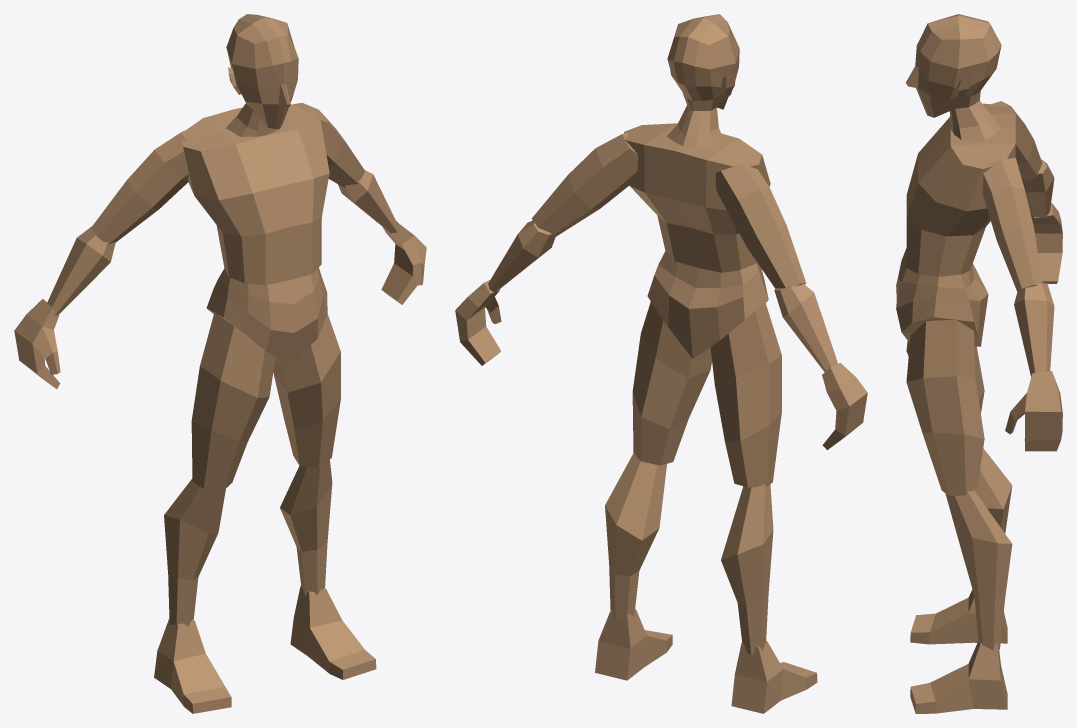
Rendered from HumanChar.glb.
3 renders of one model, left to right at view 1: azimuth 30°, elevation 25°; view 2: azimuth 150°, elevation 25°; view 3: azimuth 270°, elevation 25°, orthographic.
Visible parts, largest first — view 1: Upper torso, Upper leg, Lower leg, Foot, Lower torso, Head, Upper arm, Hand, Lower arm; view 2: Upper leg, Lower leg, Upper torso, Upper arm, Lower torso, Foot, Head, Hand, Lower arm; view 3: Upper torso, Upper leg, Head, Lower leg, Foot, Upper arm, Lower torso, Hand, Lower arm.
Part boxes in pixels (bbox=[...]): Upper torso: bbox=[182, 104, 329, 285]; Upper leg: bbox=[191, 313, 340, 490]; Lower leg: bbox=[164, 459, 332, 626]; Foot: bbox=[154, 586, 376, 713]; Lower torso: bbox=[206, 267, 327, 365]; Head: bbox=[226, 14, 298, 136]; Upper arm: bbox=[91, 103, 364, 244]; Hand: bbox=[14, 221, 426, 388]; Lower arm: bbox=[47, 170, 397, 315]; Upper leg: bbox=[632, 301, 781, 487]; Lower leg: bbox=[605, 452, 773, 654]; Upper torso: bbox=[623, 123, 770, 272]; Upper arm: bbox=[532, 133, 805, 288]; Lower torso: bbox=[647, 251, 768, 358]; Foot: bbox=[595, 609, 817, 713]; Head: bbox=[667, 14, 739, 147]; Hand: bbox=[455, 280, 867, 450]; Lower arm: bbox=[488, 220, 837, 371]; Upper torso: bbox=[906, 103, 1015, 276]; Upper leg: bbox=[906, 320, 984, 495]; Head: bbox=[905, 14, 1001, 140]; Lower leg: bbox=[945, 448, 1012, 650]; Foot: bbox=[910, 589, 1007, 713]; Upper arm: bbox=[982, 101, 1042, 291]; Lower torso: bbox=[896, 248, 988, 346]; Hand: bbox=[1005, 203, 1062, 451]; Lower arm: bbox=[1014, 159, 1054, 376].
Bounding box in the file's own units: 1.34 × 2.13 × 0.4926.
